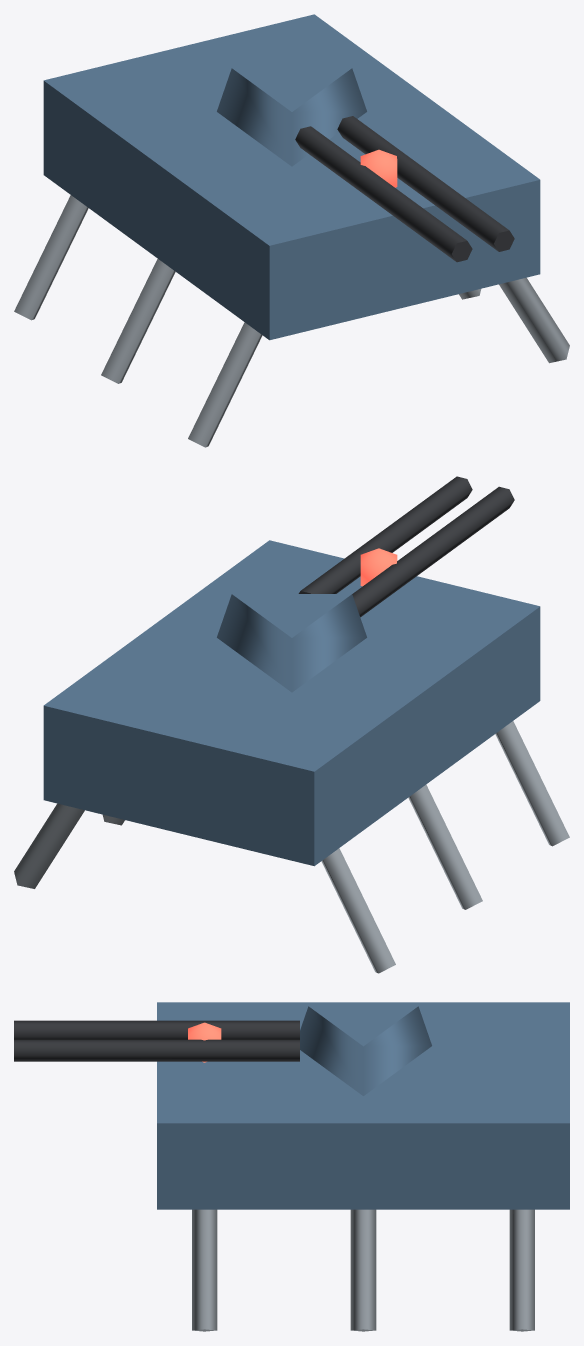
The model's file is unit_mil_ground_drone_a09_lod2.glb.
The picture shows the model from 3 angles, top to bottom: view 1: azimuth 30°, elevation 25°; view 2: azimuth 150°, elevation 25°; view 3: azimuth 270°, elevation 25°; orthographic projection. The views are drawn at different scales.
Parts seen in each view (by area): view 1: body, turret; view 2: body, turret; view 3: body, turret.
Boxes of the visible parts, x1,y1,x2,y2 form: body: [14, 14, 569, 447]; turret: [217, 68, 514, 262]; body: [14, 540, 569, 973]; turret: [217, 476, 514, 692]; body: [157, 1002, 569, 1331]; turret: [14, 1006, 431, 1095].
Bounding box in the file's own units: 1.27 × 0.82 × 1.75.
